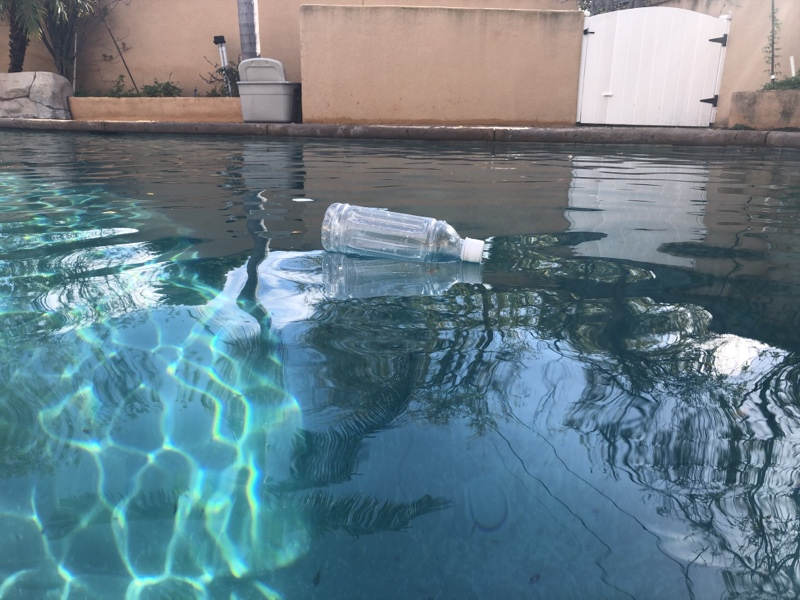Plastic Bottle: (318, 192, 488, 273)
